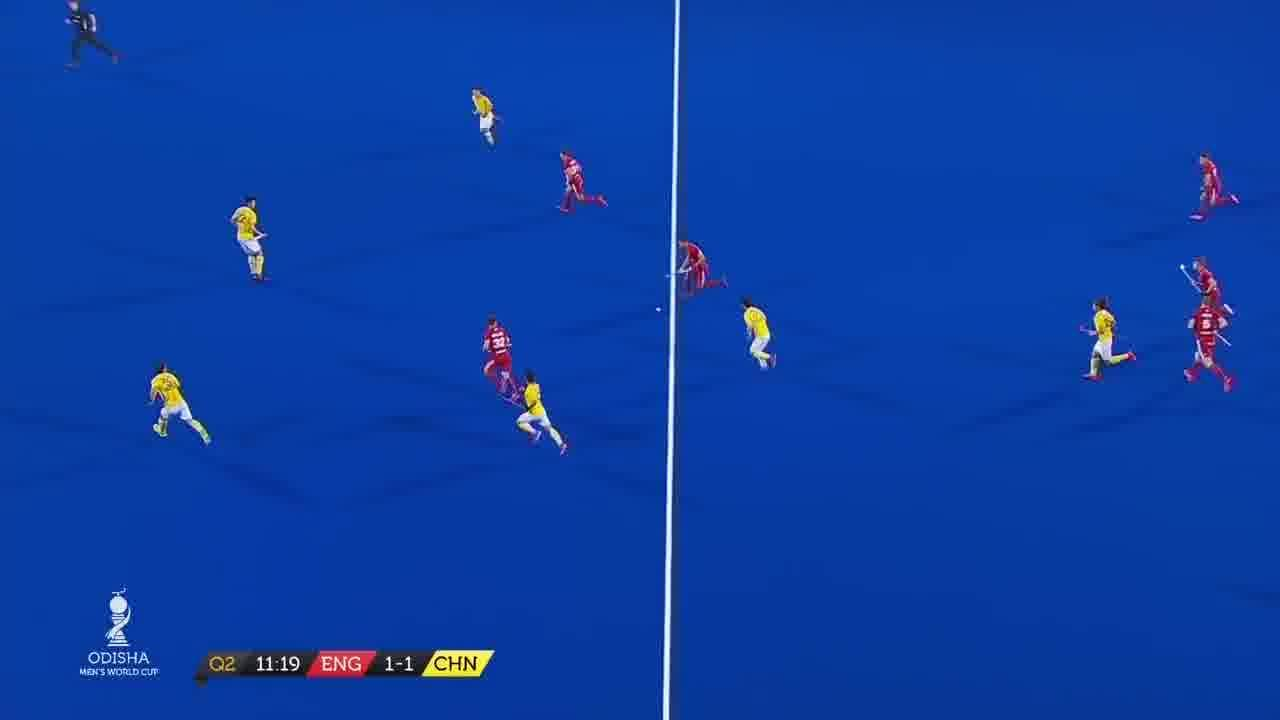ball: (654, 305, 664, 315)
